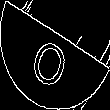O_NE: (31, 22, 79, 88)
